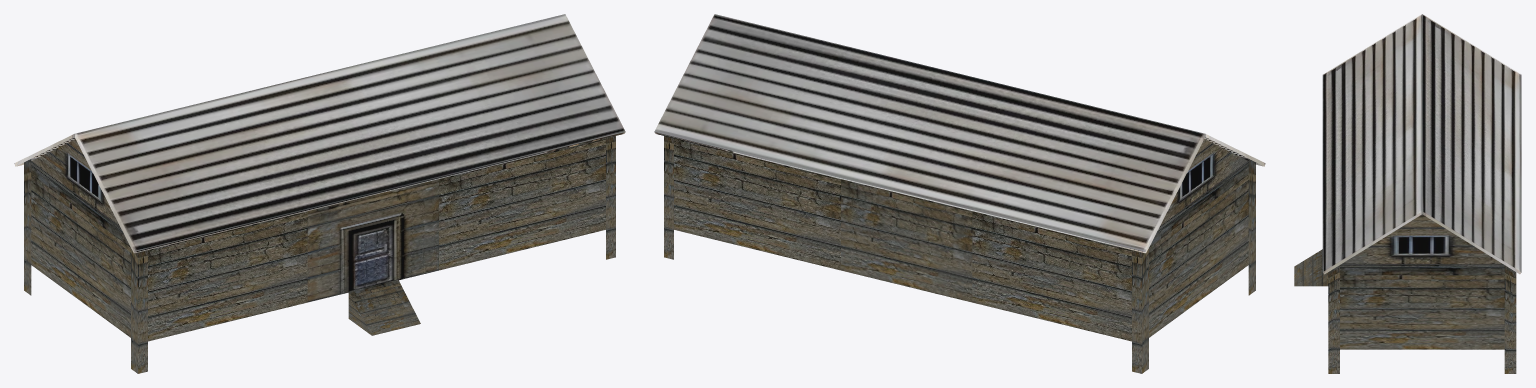
The model's file is s_barracks_hdtex.glb.
The picture shows the model from 3 angles, left to right: view 1: azimuth 30°, elevation 25°; view 2: azimuth 150°, elevation 25°; view 3: azimuth 270°, elevation 25°; orthographic projection. The views are drawn at different scales.
Parts seen in each view (by area): view 1: Box03; view 2: Box03; view 3: Box03.
Boxes of the visible parts, x1=… form: Box03: x1=14, y1=14, x2=625, y2=373; Box03: x1=654, y1=14, x2=1265, y2=373; Box03: x1=1294, y1=14, x2=1521, y2=373.
Bounding box in the file's own units: 19.05 × 7.42 × 9.27.
Materials: 2 (2 with a texture image).
